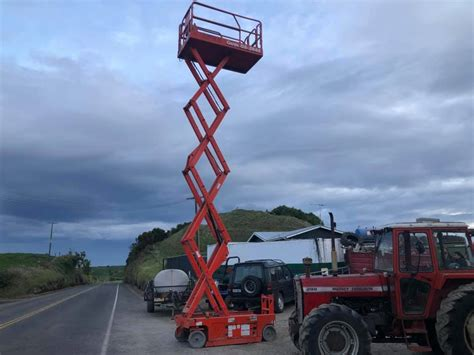Scissor Lift: (174, 1, 278, 349)
